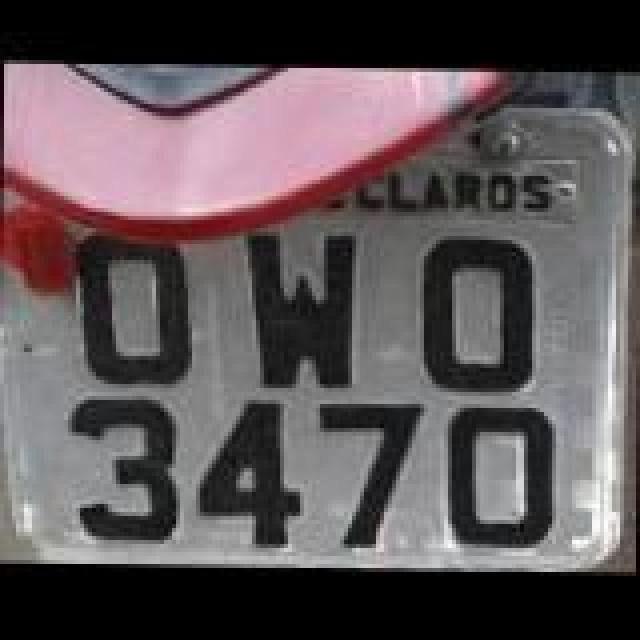3: (68, 390, 188, 546)
4: (192, 396, 304, 548)
7: (312, 394, 424, 550)
O: (66, 230, 198, 386), (420, 228, 540, 396), (442, 406, 558, 554)
W: (244, 222, 364, 386)
